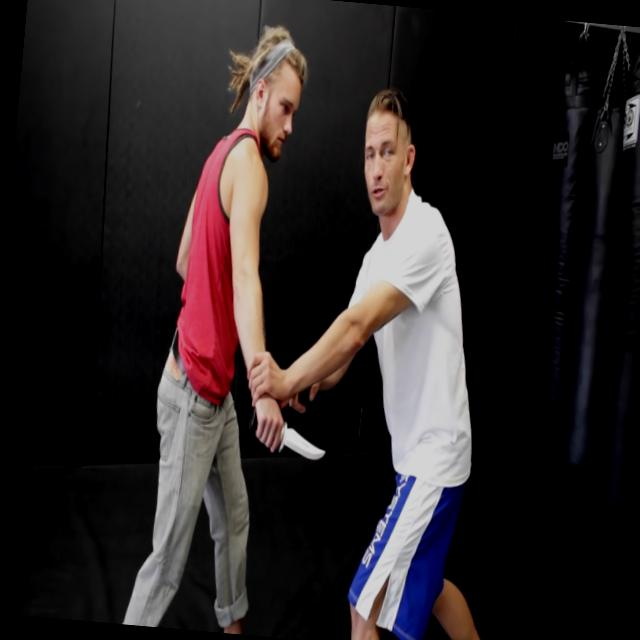knife: (244, 405, 333, 470)
